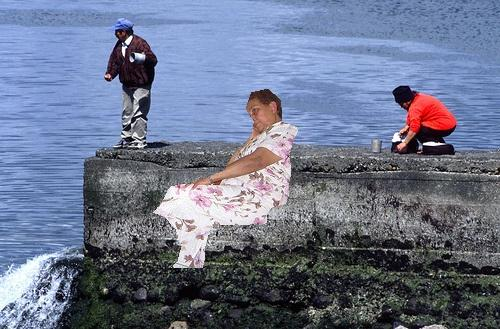tampered: (154, 90, 298, 268)
